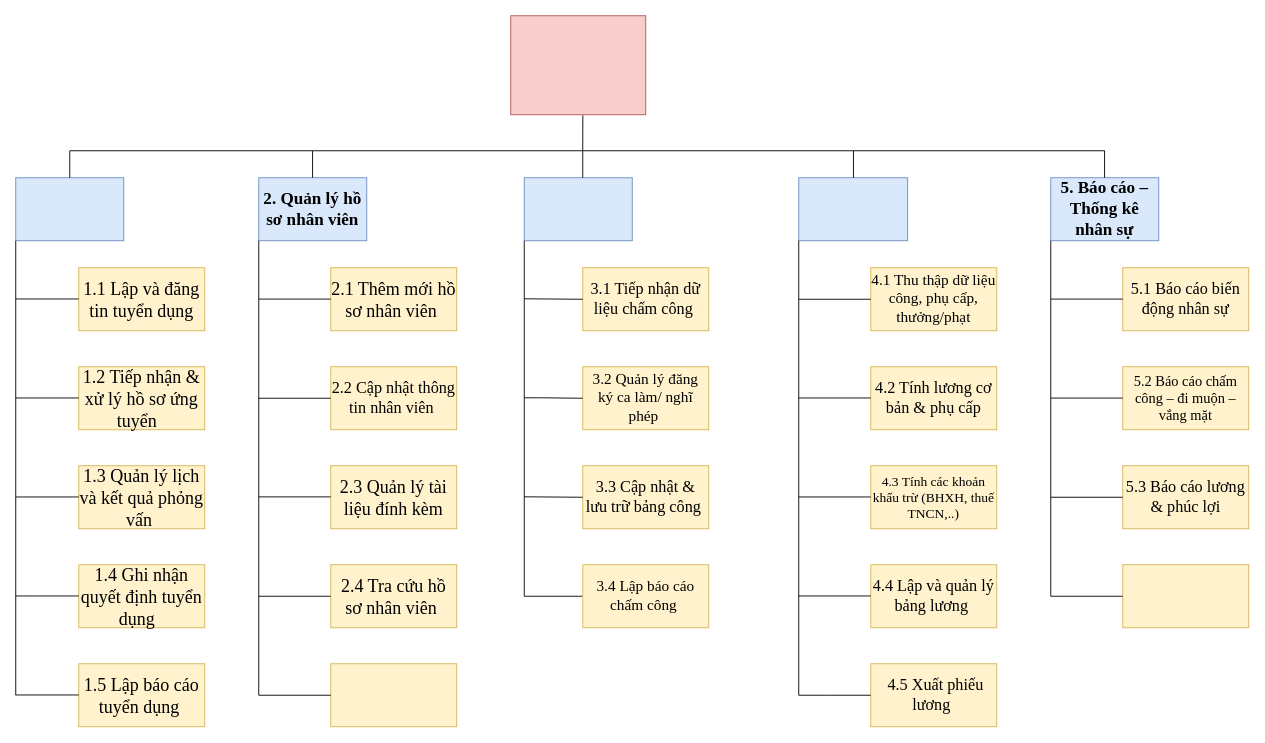
The diagram is 1265 pixels wide and 743 high, and some of its shapes have lost their labels. The centre of each missing label's shape, as x and y in pixels:
1. Quản lý tuyển dụng: point 69,209
2.5 Xuất báo cáo hồ sơ: point 393,695
3. Quản lý chấm công – đăng ký công: point 577,209
4. Quản lý tính lương: point 853,209
5.4 Báo cáo tổng hợp: point 1185,596
Hệ thống quản lý nhân sự Viettle: point 578,65
